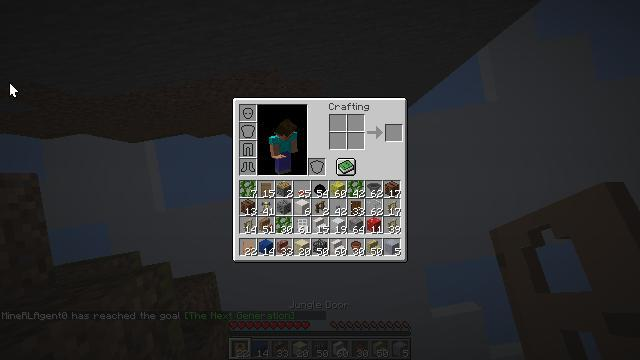cursor: (82, 9, 98, 19)
